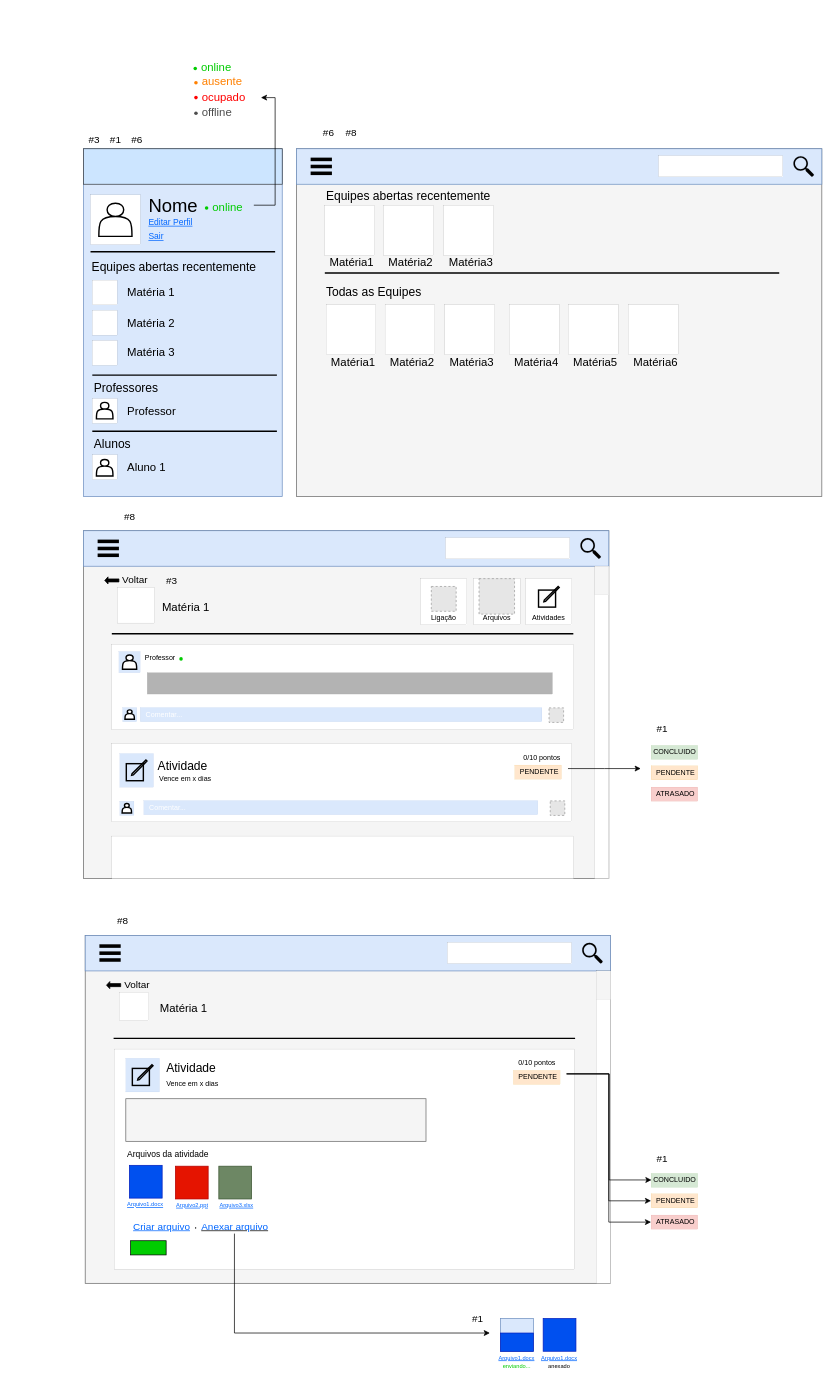
Image size: 834x1389. Some labels were removed from this diagram. Grey dashed boxes stand in for pictures. The shapes that lost their labels are listed below. From the top down, each one's centre as x and y in pixels, then its label:
At [182,166]: "Plataforma de ensino".
At [275,1119]: "descrição".
At [148,1247]: "Enviar".
